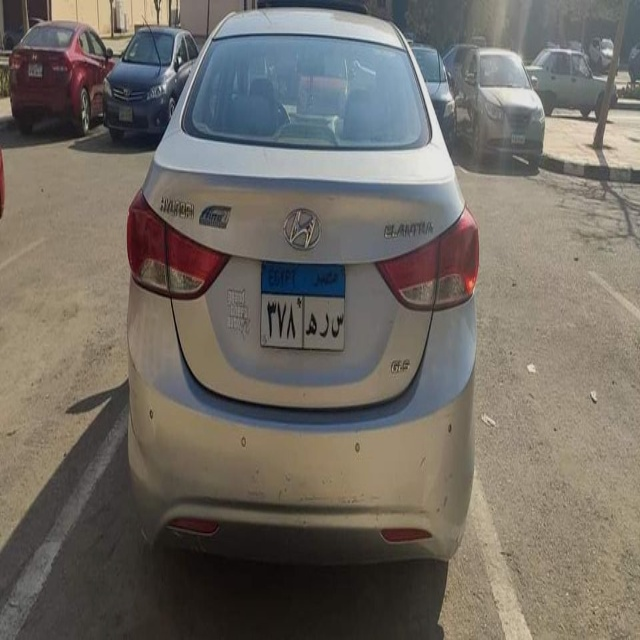License Plate: (259, 259, 346, 353)
